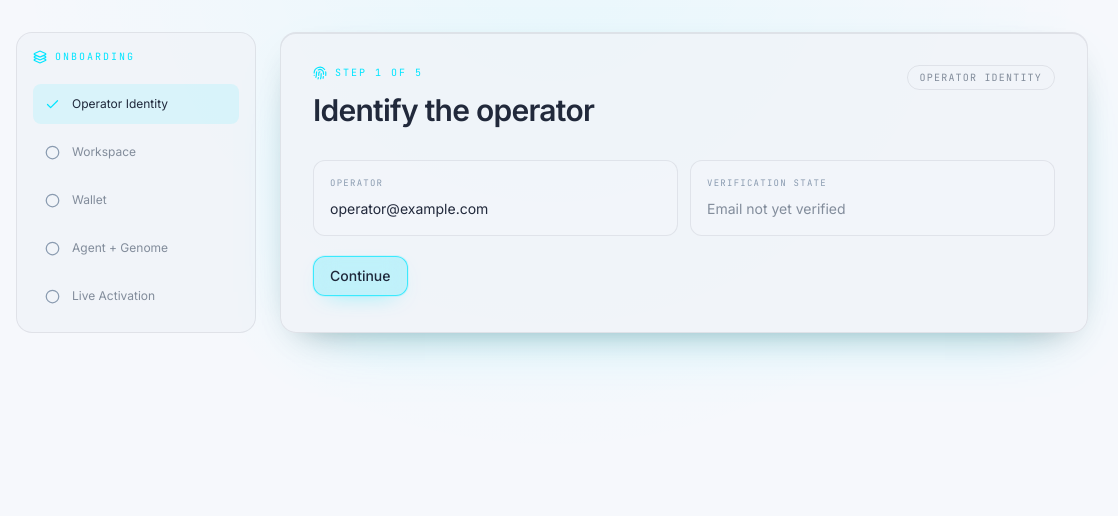
Test: onboarding with the PGL ledger unavailable › offers workspace creation when the session has no workspace, without redirecting
Click the button "Continue".
click(360, 276)  # box [313,256,408,296]
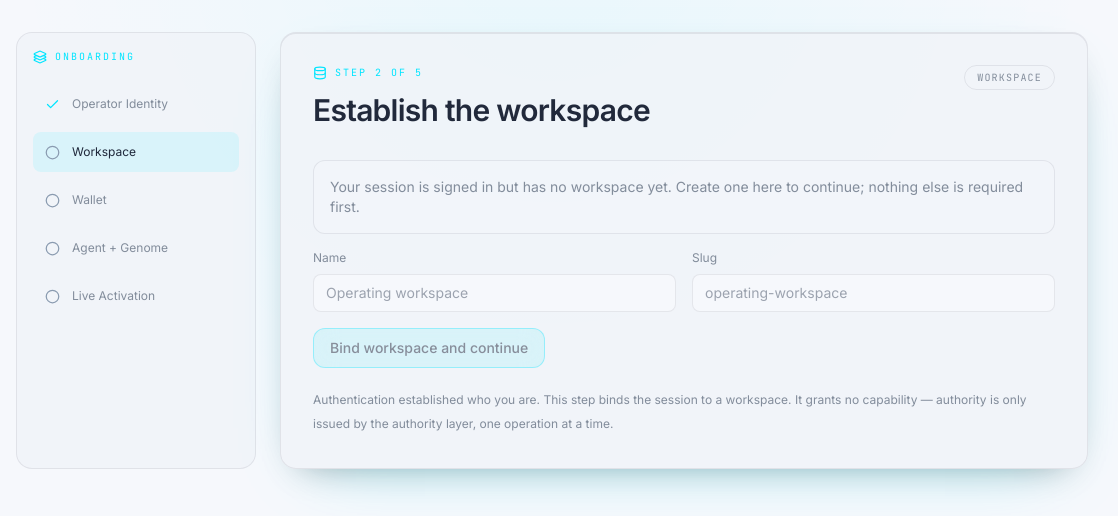
Expected: the button "Bind workspace and continue" is shown, [313,328,545,368]
Now the text with test id "workspace-missing" is shown, box [313,160,1055,234]
